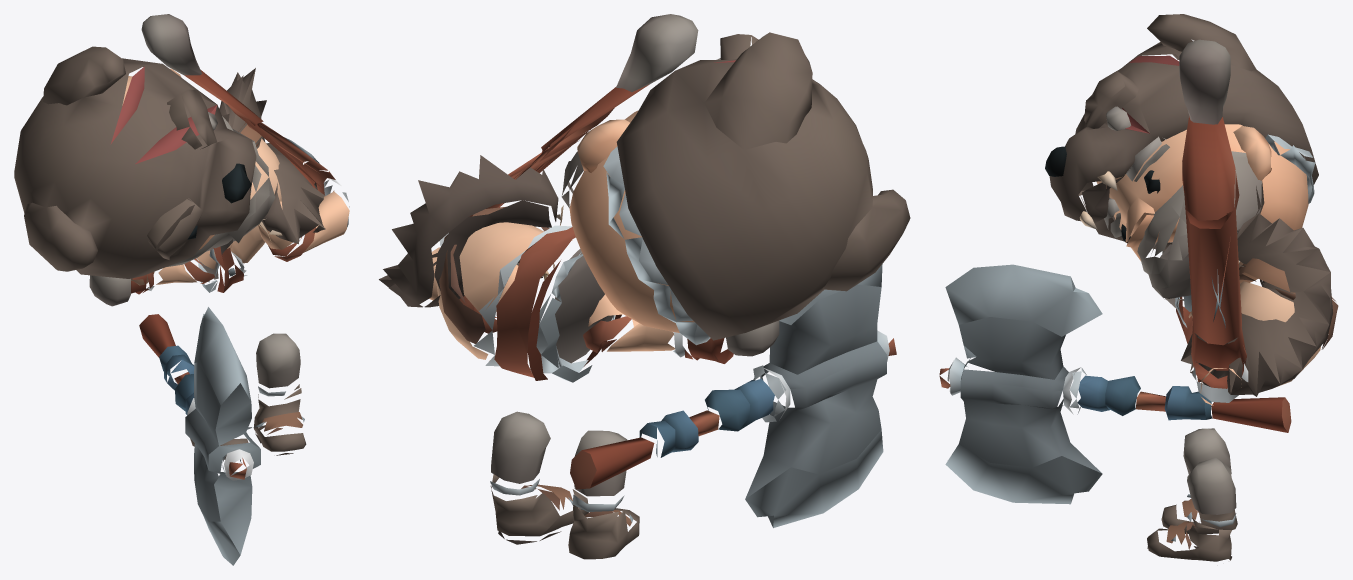
The model's file is enemy_brute.glb.
3 views of the same model, side by side, from view 1: azimuth 30°, elevation 25°; view 2: azimuth 150°, elevation 25°; view 3: azimuth 270°, elevation 25° (orthographic). The views are drawn at different scales.
Parts seen in each view (by area): view 1: brute; view 2: brute; view 3: brute.
Part boxes in pixels (bbox=[...]): brute: bbox=[14, 14, 349, 565]; brute: bbox=[379, 14, 910, 559]; brute: bbox=[939, 14, 1338, 561].
Bounding box in the file's own units: 1.14 × 1.44 × 1.09.
Materials: 1 (1 with a texture image).
